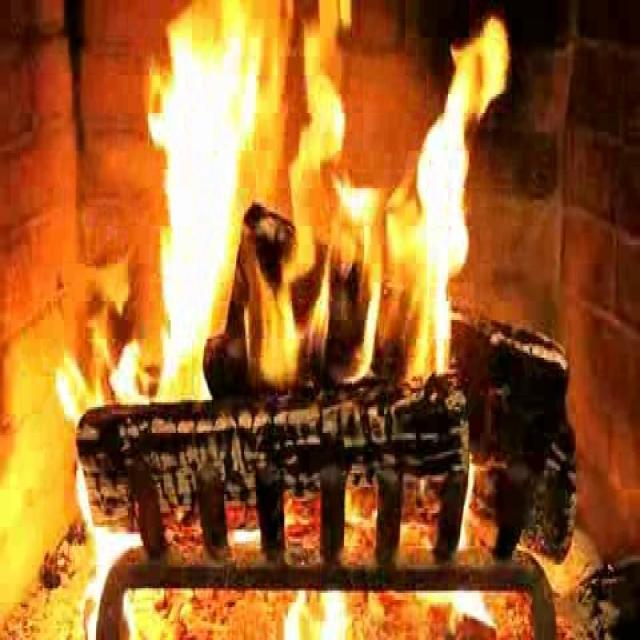Fire: (140, 8, 468, 412)
